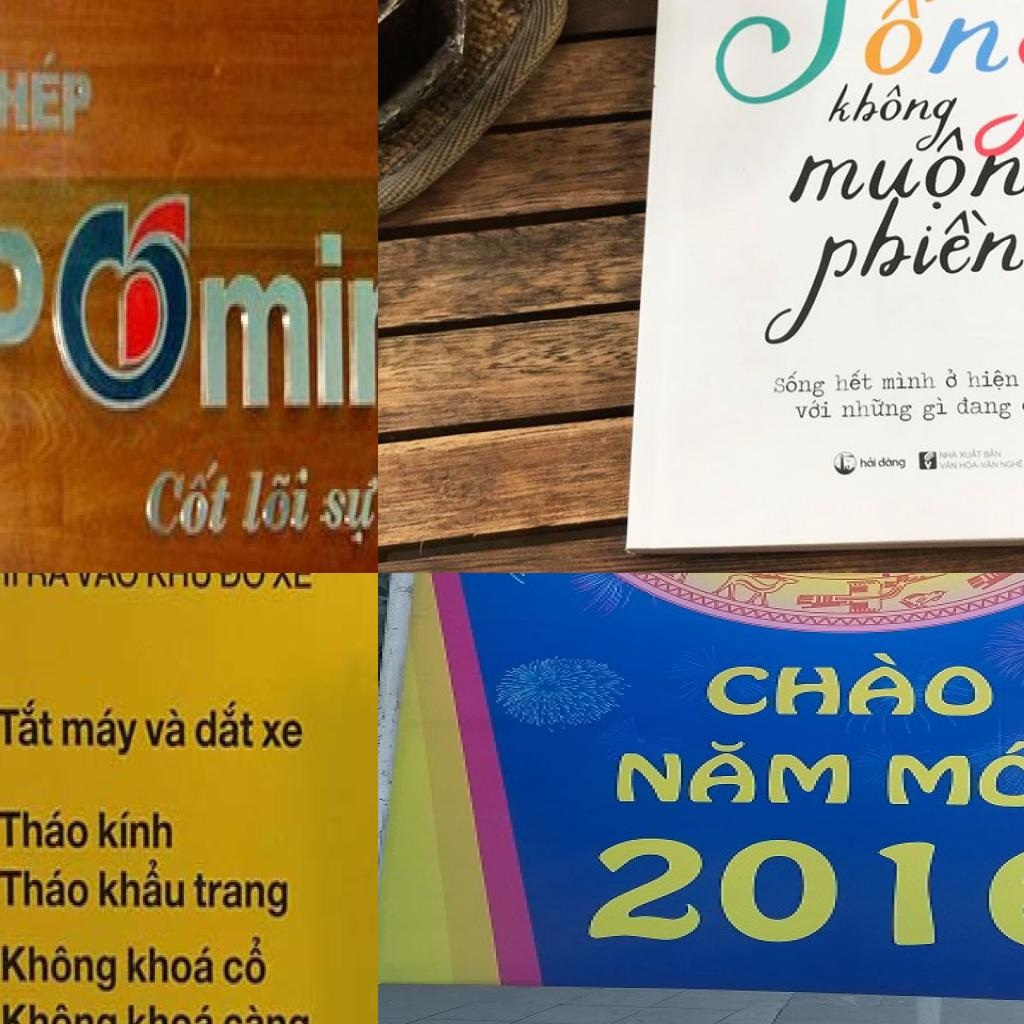text: (0, 185, 378, 425), (730, 0, 1024, 163), (757, 193, 1024, 347), (700, 653, 1001, 719), (610, 737, 854, 807), (815, 81, 966, 155), (142, 448, 240, 550), (884, 739, 1024, 809), (0, 43, 96, 141), (237, 457, 320, 547), (800, 119, 973, 157), (2, 944, 120, 996), (314, 468, 378, 555), (97, 857, 189, 912), (194, 873, 290, 923), (61, 707, 145, 757), (0, 807, 91, 852), (128, 944, 216, 989), (0, 869, 92, 912), (194, 696, 256, 752), (97, 810, 175, 852), (0, 695, 56, 750), (1, 1002, 119, 1024), (222, 937, 271, 989), (840, 394, 914, 426), (221, 1002, 312, 1024), (145, 707, 189, 750), (127, 1003, 216, 1024), (259, 716, 307, 753), (770, 370, 830, 399), (954, 394, 1013, 422), (965, 366, 1022, 393), (72, 573, 141, 593), (879, 368, 939, 390), (146, 573, 212, 591), (832, 367, 873, 395), (795, 398, 833, 423), (920, 394, 948, 426), (218, 573, 267, 591), (270, 573, 315, 591), (27, 573, 73, 588), (878, 454, 909, 470), (846, 573, 913, 580), (942, 366, 960, 390), (959, 448, 984, 460), (860, 454, 878, 470), (979, 458, 1001, 470), (983, 447, 1004, 459), (959, 458, 979, 470), (938, 450, 959, 461), (938, 460, 959, 470), (923, 461, 933, 470)
